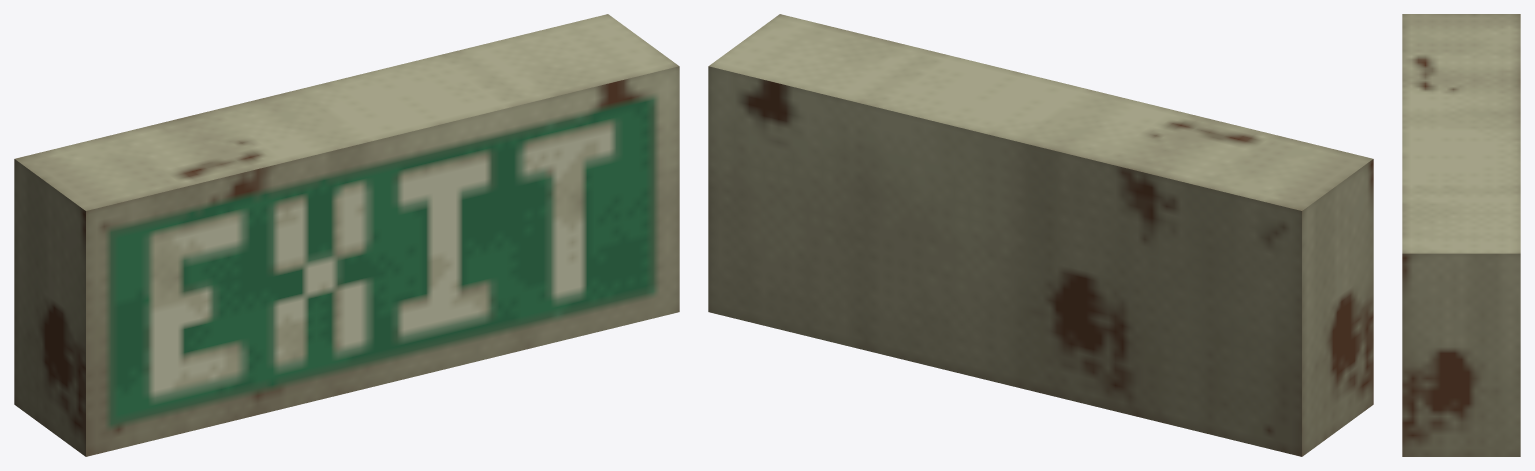
Rendered from Sign_Exit_01.fbx.
3 renders of one model, left to right at view 1: azimuth 30°, elevation 25°; view 2: azimuth 150°, elevation 25°; view 3: azimuth 270°, elevation 25°, orthographic. The views are drawn at different scales.
Parts seen in each view (by area): view 1: Sign_Exit_01; view 2: Sign_Exit_01; view 3: Sign_Exit_01.
Part boxes in pixels (x1=…): Sign_Exit_01: x1=14, y1=14, x2=679, y2=456; Sign_Exit_01: x1=708, y1=14, x2=1373, y2=456; Sign_Exit_01: x1=1402, y1=14, x2=1520, y2=456.
Size of the model in its own units: 0.48 by 0.19 by 0.1.
1 material, 1 textured.
